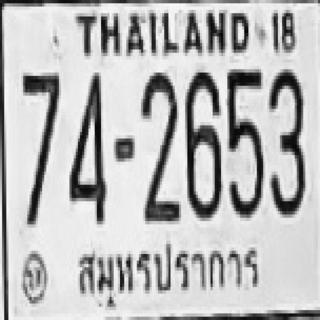N02: (140, 69, 178, 221), (141, 71, 177, 210)
N03: (267, 66, 303, 214)
N04: (67, 69, 105, 221)
N05: (225, 66, 263, 214)
N06: (183, 69, 221, 218)
N07: (21, 71, 59, 223), (21, 69, 59, 178)
P57: (74, 241, 262, 299)
